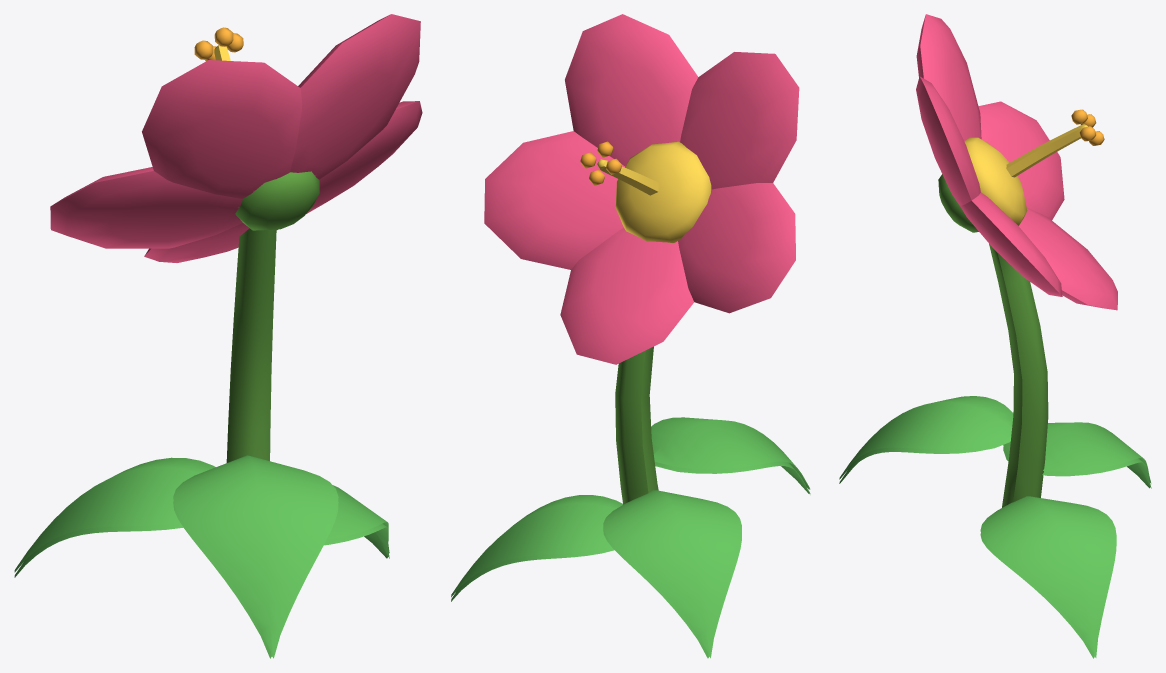
Rendered from flower_giant.glb.
3 renders of one model, left to right at view 1: azimuth 30°, elevation 25°; view 2: azimuth 150°, elevation 25°; view 3: azimuth 270°, elevation 25°, orthographic. The views are drawn at different scales.
Parts seen in each view (by area): view 1: flower_giant; view 2: flower_giant; view 3: flower_giant.
Boxes of the visible parts, x1,y1,x2,y2 form: flower_giant: (14,14,422,658); flower_giant: (451,14,810,658); flower_giant: (839,14,1151,658).
Bounding box in the file's own units: 1.48 × 2.44 × 1.3.
